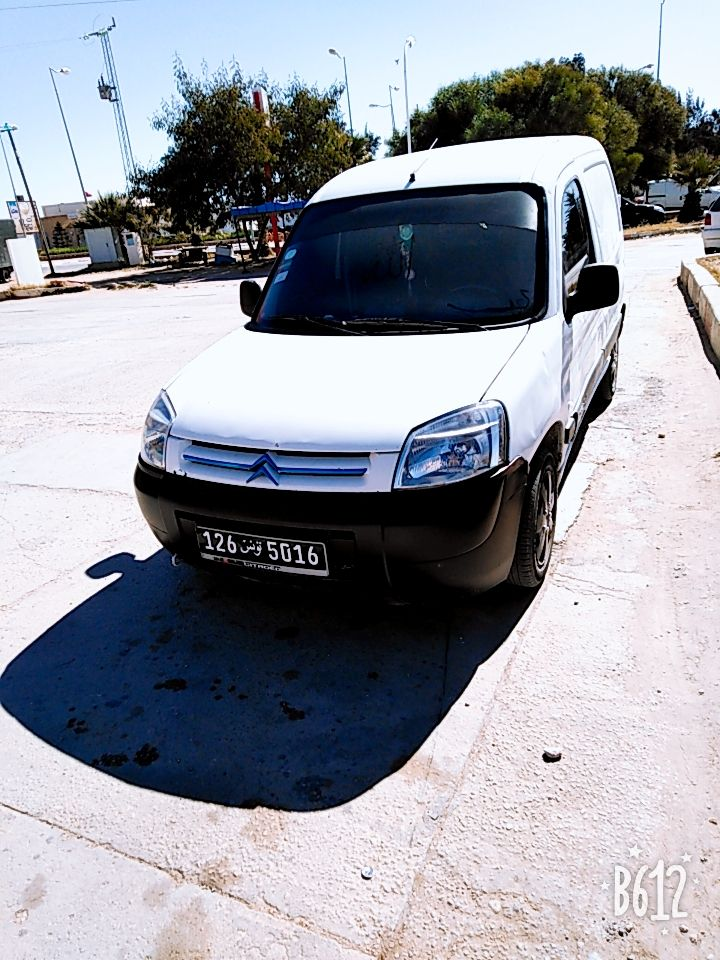LP: (194, 524, 328, 571)
